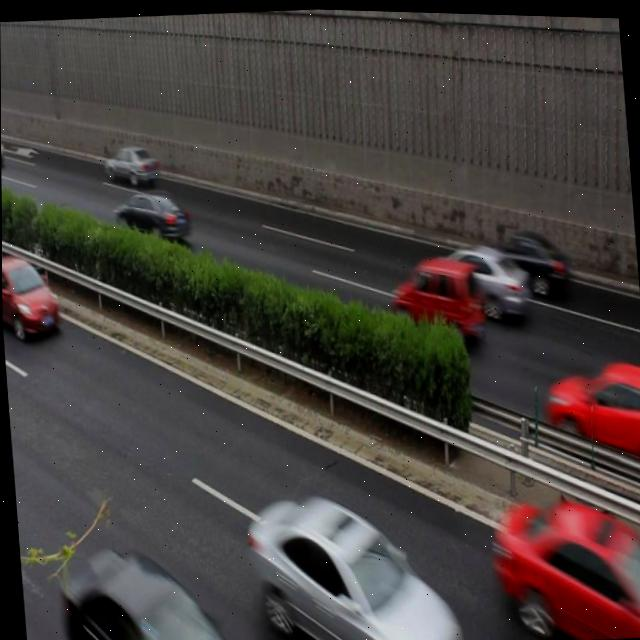car: (246, 484, 456, 640), (487, 484, 640, 640), (57, 544, 240, 640), (424, 233, 526, 321), (388, 252, 480, 341), (470, 219, 568, 302), (1, 253, 56, 339), (113, 186, 189, 248), (103, 141, 158, 190)
